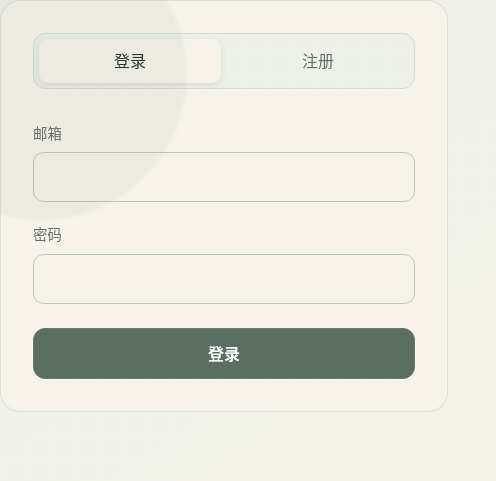
Scenario: AuthForm › keeps the server error visible and actionable
Step 1. Type "learner@example.com" into the field labelled "邮箱" → {"x": 224, "y": 177}, box [33,152,415,202]
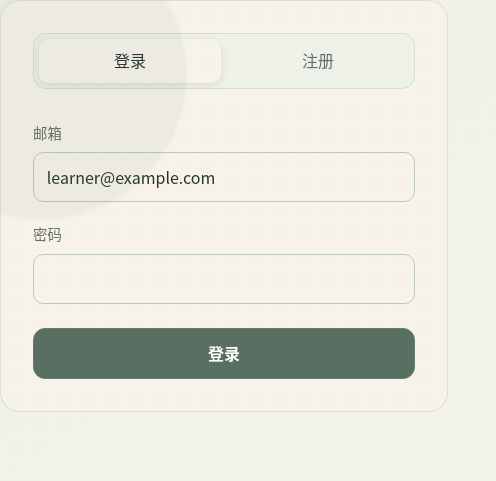
Step 2. Type "12345678" into the password field labelled "密码" → {"x": 224, "y": 279}, box [33,254,415,304]
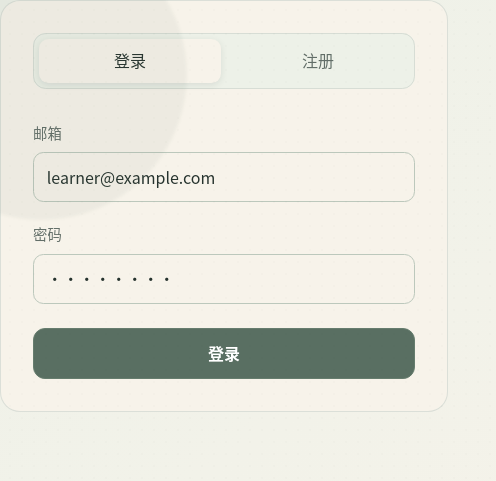
Step 3. Click the button "登录" below "密码" → {"x": 224, "y": 354}, box [33,328,415,380]
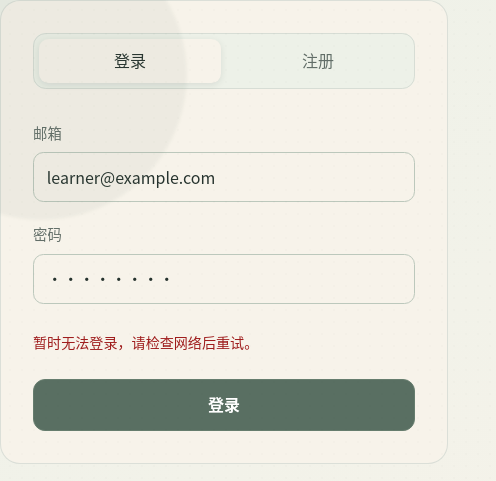
Expected: the message does not show "database.internal", [33,332,258,352]
Expected: the message reads "暂时无法登录，请检查网络后重试。", [33,332,258,352]
